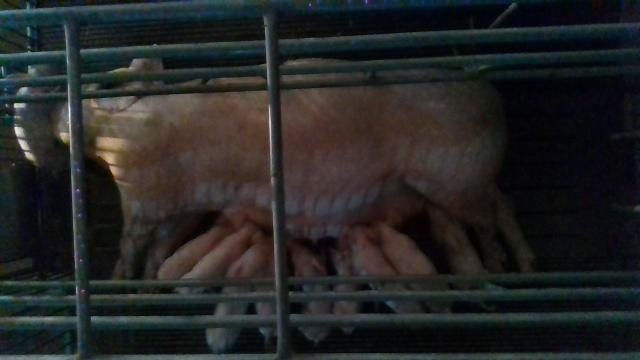piglet: (367, 207, 452, 313), (206, 242, 273, 353), (427, 205, 496, 311), (343, 224, 422, 312), (156, 214, 243, 289), (175, 223, 253, 294), (12, 65, 62, 168), (288, 239, 333, 348), (330, 242, 361, 335)
sow-sleep-lactate: (48, 58, 538, 307)
